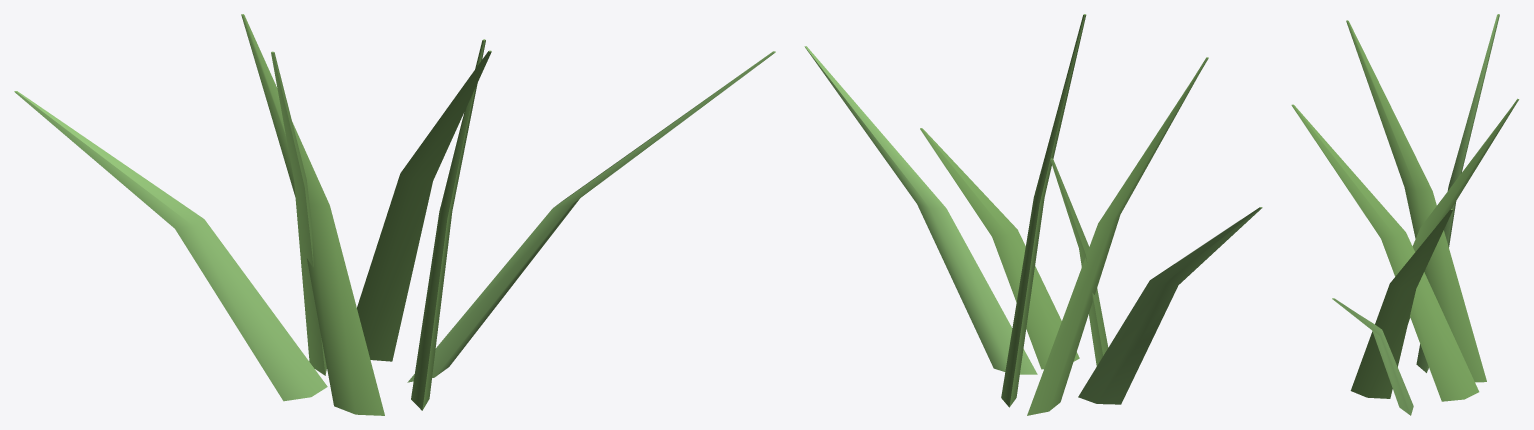
File: prop_grass_tuft.glb
The picture shows the model from 3 angles, left to right: view 1: azimuth 30°, elevation 25°; view 2: azimuth 150°, elevation 25°; view 3: azimuth 270°, elevation 25°; orthographic projection. The views are drawn at different scales.
Visible parts, largest first — view 1: prop_grass_tuft; view 2: prop_grass_tuft; view 3: prop_grass_tuft.
Part boxes in pixels (box(x1,y1,x2,y2)): prop_grass_tuft: box(14, 14, 775, 415); prop_grass_tuft: box(804, 14, 1262, 415); prop_grass_tuft: box(1291, 14, 1519, 415).
Size of the model in its own units: 0.8112 by 0.4691 by 0.3107.
